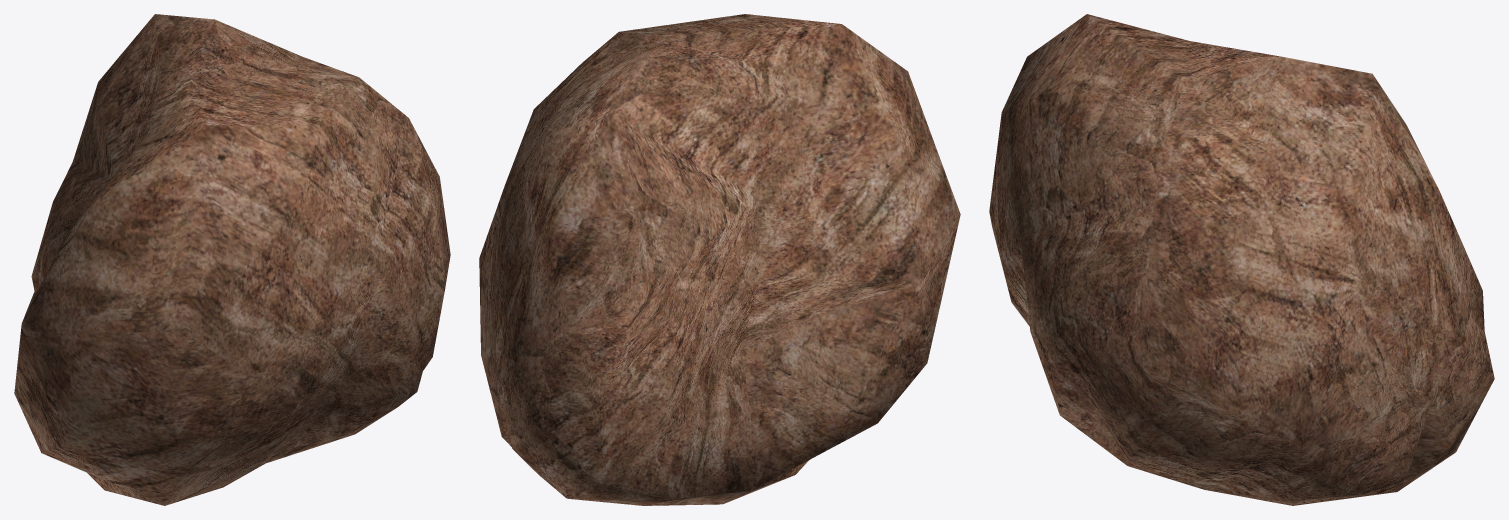
The model's file is rock_dath_desertboulder_a1_l1.fbx.
The picture shows the model from 3 angles, left to right: view 1: azimuth 30°, elevation 25°; view 2: azimuth 150°, elevation 25°; view 3: azimuth 270°, elevation 25°; orthographic projection. The views are drawn at different scales.
Parts seen in each view (by area): view 1: mesh_node; view 2: mesh_node; view 3: mesh_node.
Part boxes in pixels (bbox=[...]): mesh_node: bbox=[14, 14, 450, 505]; mesh_node: bbox=[479, 14, 960, 505]; mesh_node: bbox=[989, 14, 1494, 505].
Size of the model in its own units: 1.55 by 1.58 by 1.63.
